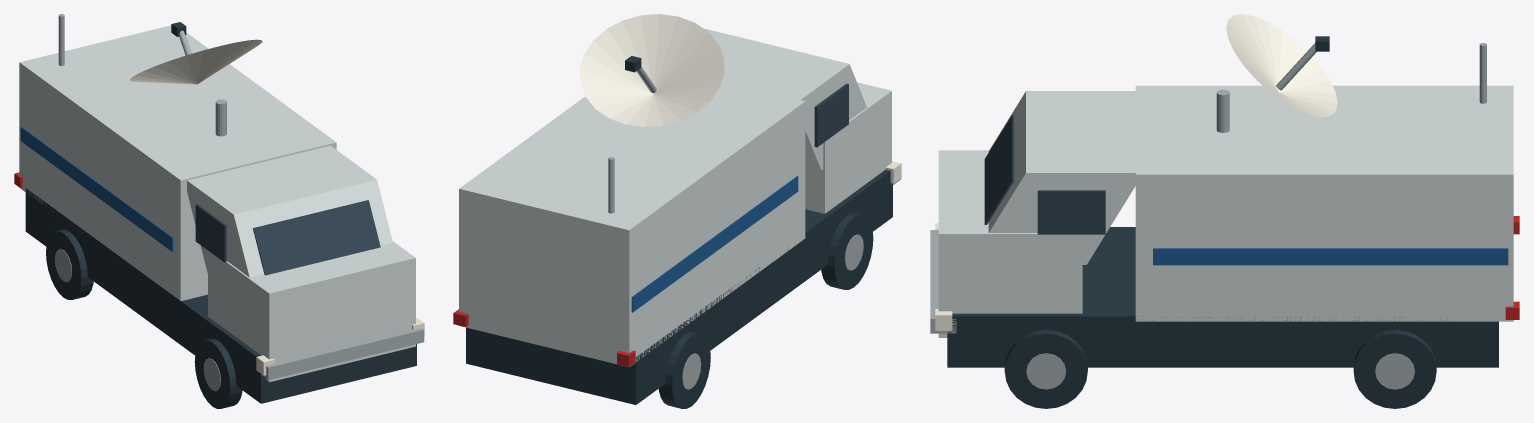
Rendered from scendance-plan-hb-van.glb.
3 renders of one model, left to right at view 1: azimuth 30°, elevation 25°; view 2: azimuth 150°, elevation 25°; view 3: azimuth 270°, elevation 25°, orthographic. The views are drawn at different scales.
Size of the model in its own units: 2.26 by 3.62 by 5.82.
